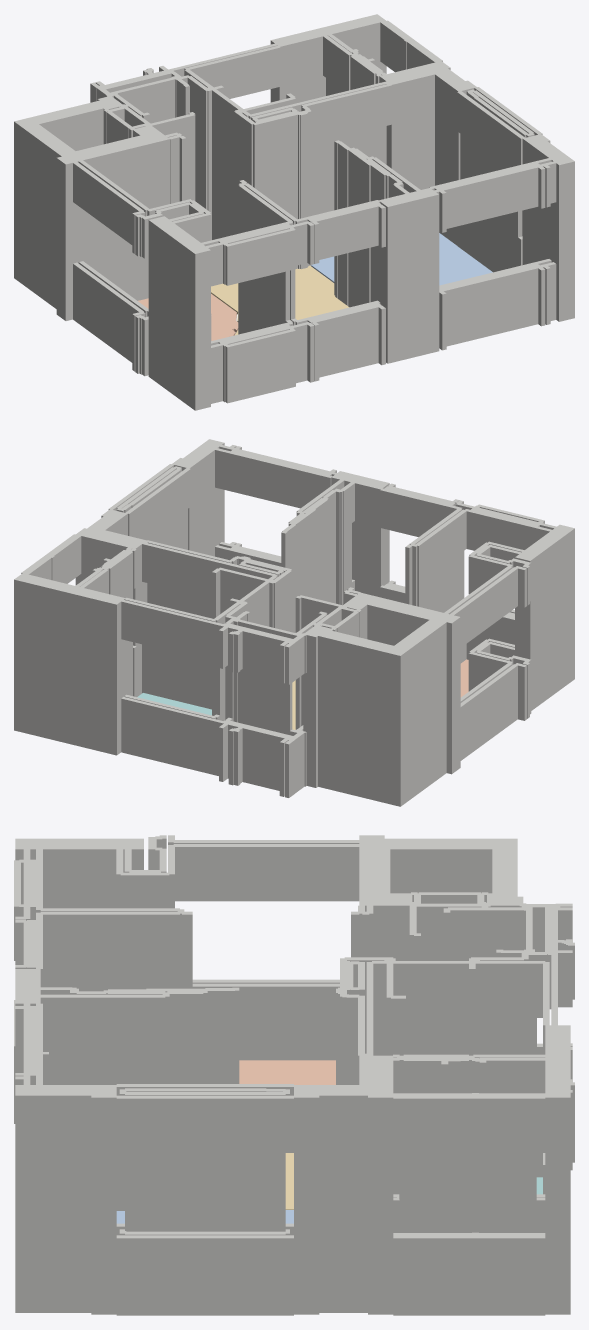
3 renders of one model, top to bottom at view 1: azimuth 30°, elevation 25°; view 2: azimuth 150°, elevation 25°; view 3: azimuth 270°, elevation 25°, orthographic. The views are drawn at different scales.
Parts seen in each view (by area): view 1: walls, room:living:4, room:bedroom:5, room:kitchen:3; view 2: walls, room:bath:0; view 3: walls, room:kitchen:3.
Boxes of the visible parts, x1,y1,x2,y2 form: walls: (14,14,574,410); room:living:4: (211,265,349,335); room:bedroom:5: (311,233,492,285); room:kitchen:3: (138,293,238,340); walls: (14,439,574,806); room:bath:0: (137,693,211,715); walls: (14,835,574,1315); room:kitchen:3: (239,1060,335,1084).
Size of the model in its own units: 7.28 by 2.8 by 6.55.
